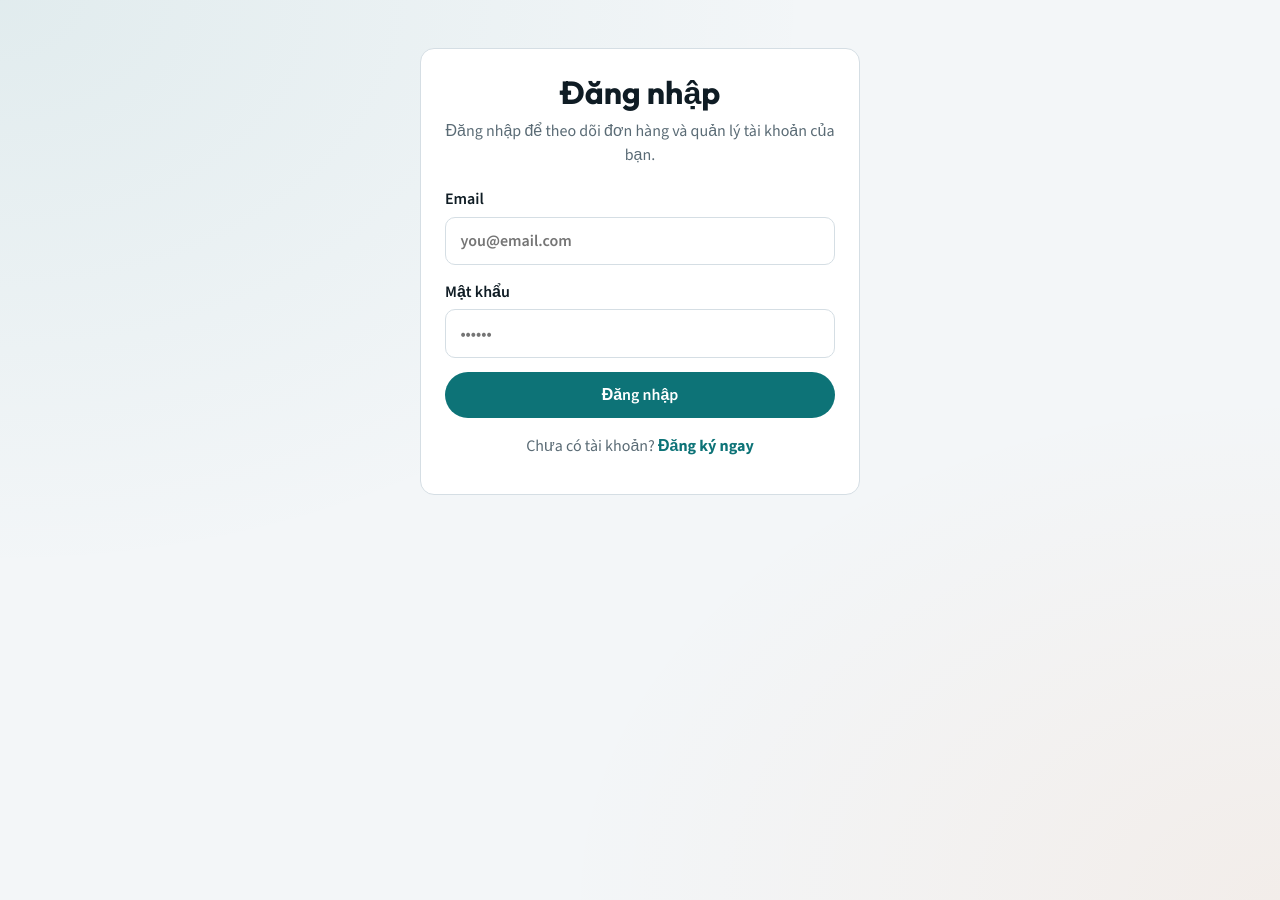
Trang Login › đăng nhập thất bại: hiện thông báo lỗi và không chuyển trang
The width and height of the screenshot is (1280, 900).
Type "admin@devshop.com" into the field labelled "Email" at coordinates (640, 241), box [445,217,835,265]
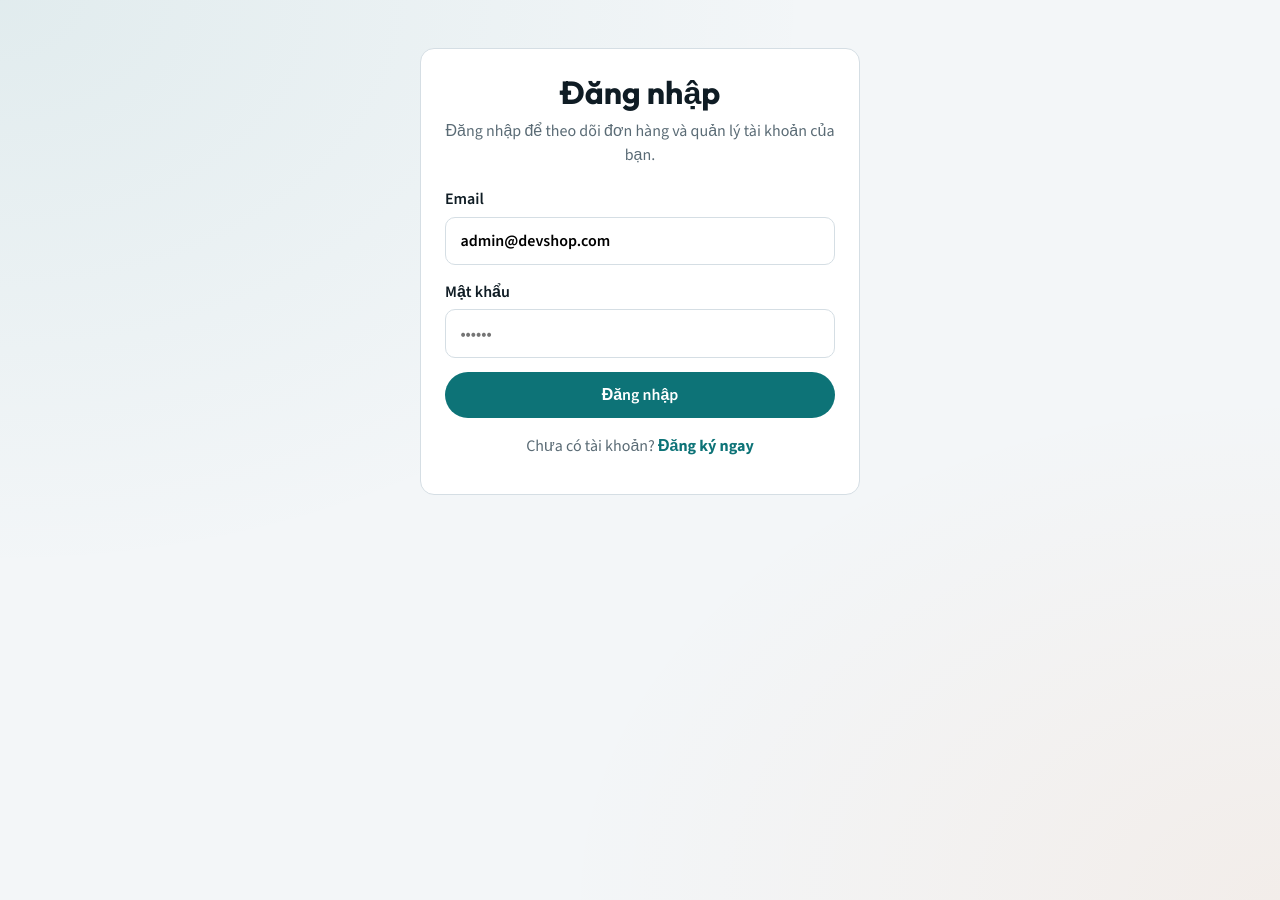
Type "sai-mat-khau" into the password field labelled "Mật khẩu" at coordinates (640, 334), box [445,309,835,358]
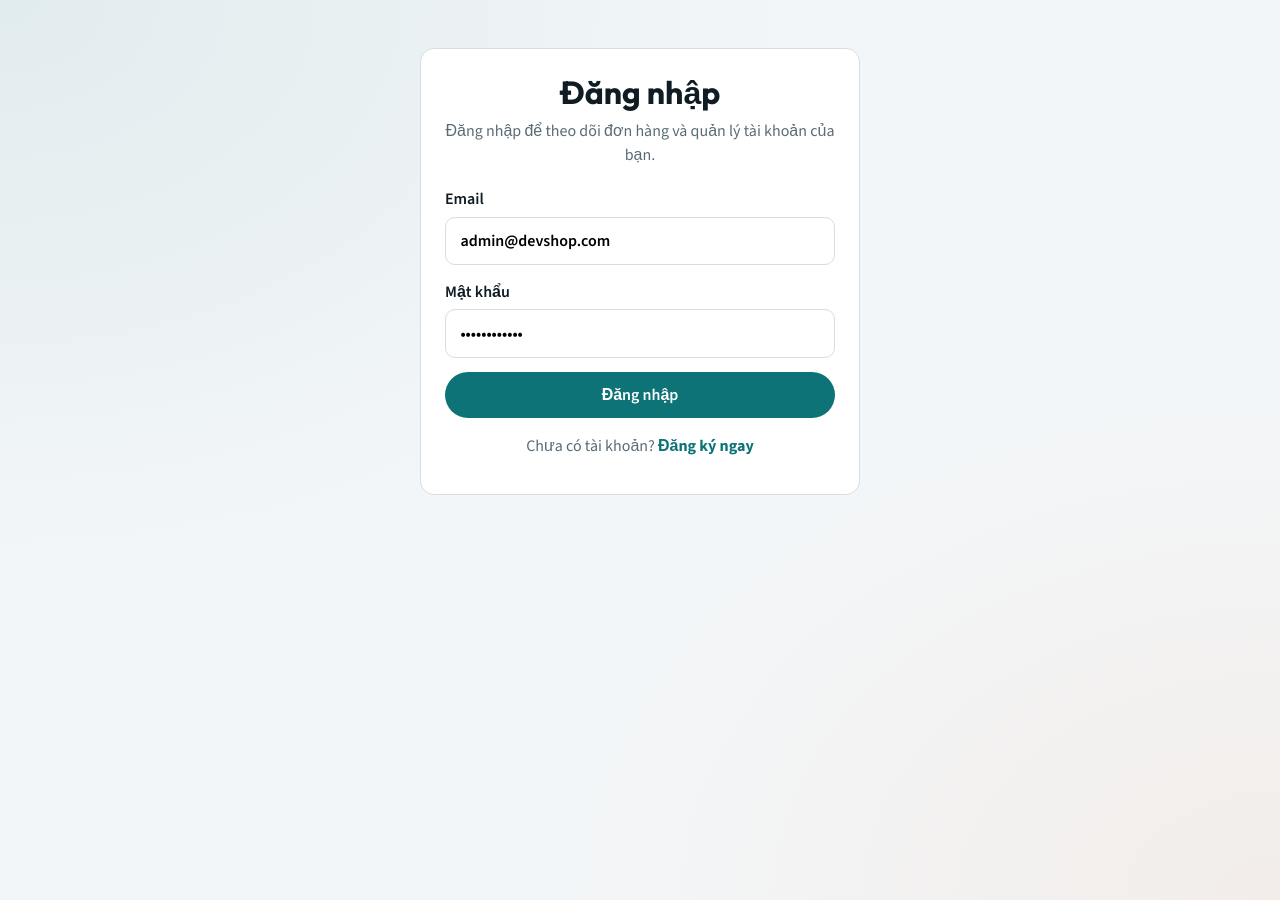
Click the button "Đăng nhập" at coordinates (640, 395), box [445,372,835,418]
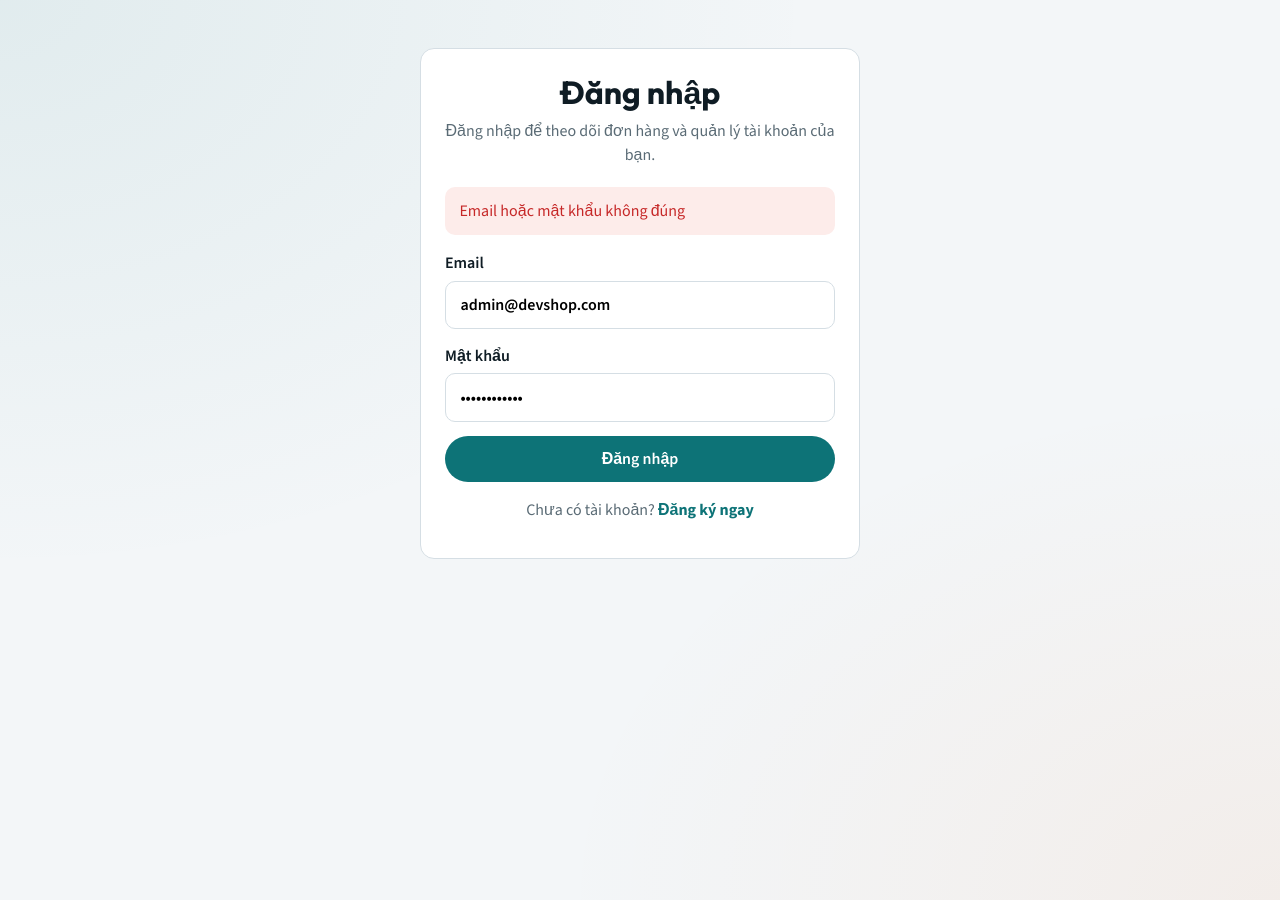
Expected: the text "Email hoặc mật khẩu không đúng" is shown, [445,187,835,235]
